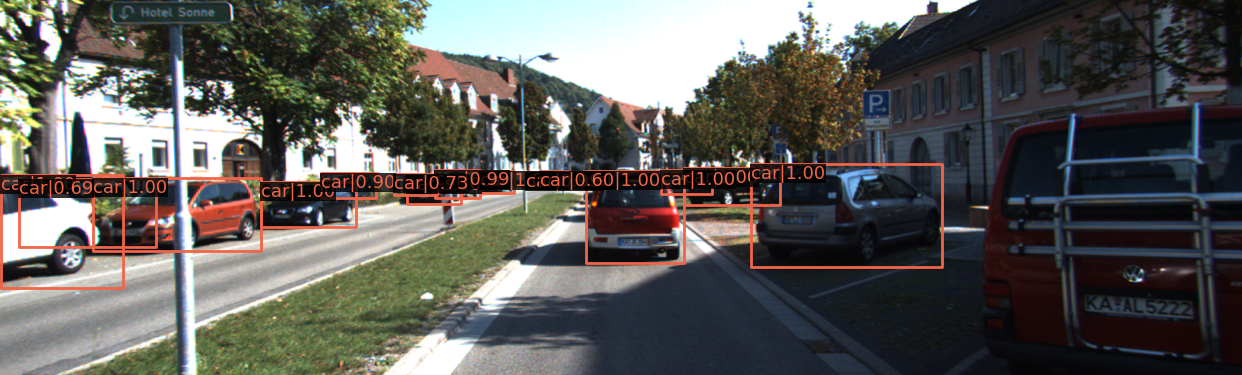car: (754, 169, 947, 267), (102, 177, 264, 250), (1, 179, 109, 282), (588, 174, 684, 265), (10, 182, 136, 240), (261, 185, 357, 229), (685, 168, 774, 207), (668, 171, 727, 199), (410, 177, 463, 204), (656, 172, 711, 193), (442, 171, 480, 200), (480, 174, 516, 194), (524, 174, 558, 189)
